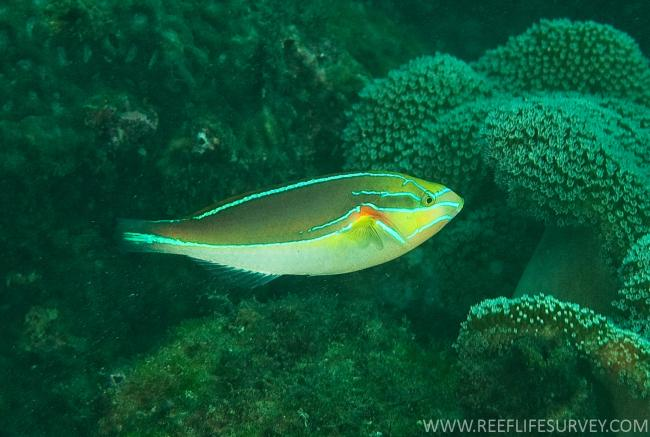fish: (114, 171, 466, 292)
